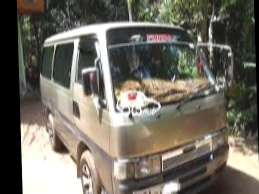van: (36, 22, 229, 194)
